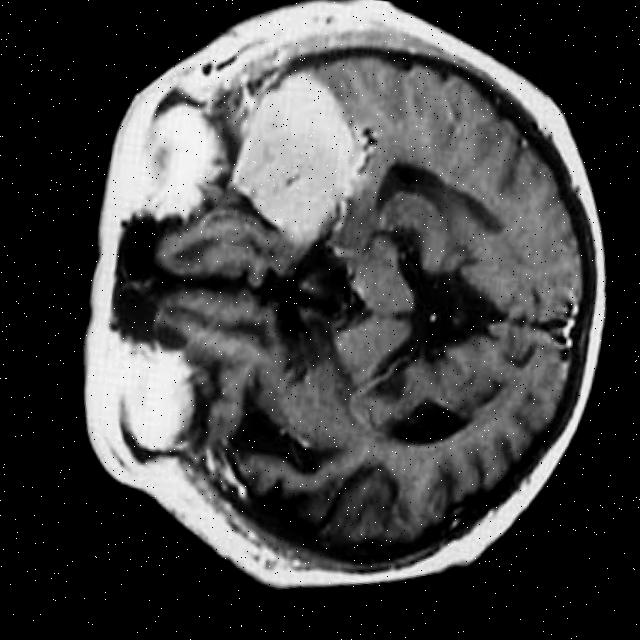Meningioma: (217, 60, 380, 259)
